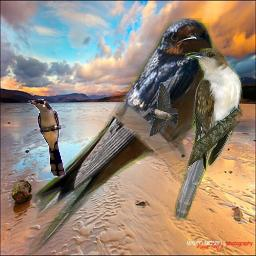Cuckoo: (174, 48, 243, 220), (27, 99, 66, 178)
Swallow: (29, 18, 217, 256), (149, 82, 178, 137)
